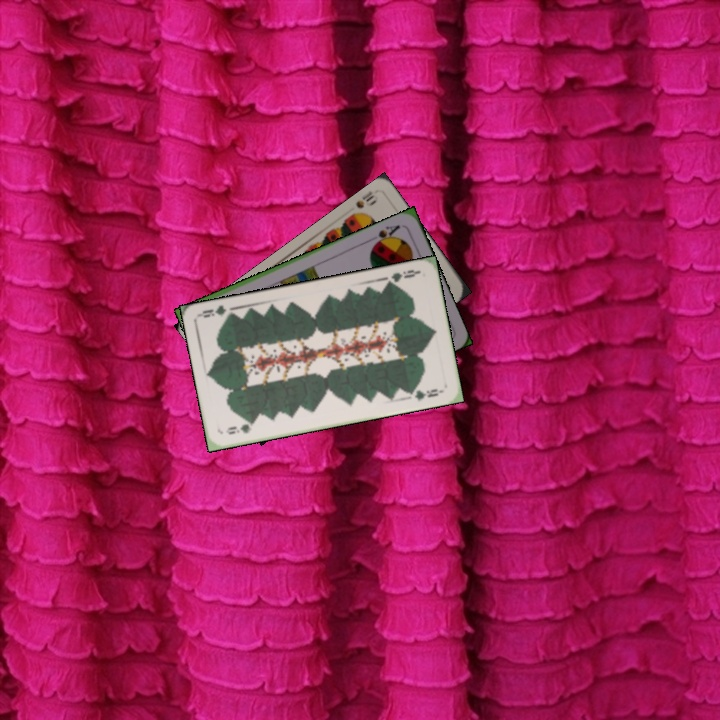G9: (383, 265, 422, 288), (222, 418, 257, 437)
S10: (346, 187, 379, 219)
SA: (366, 221, 402, 249)
